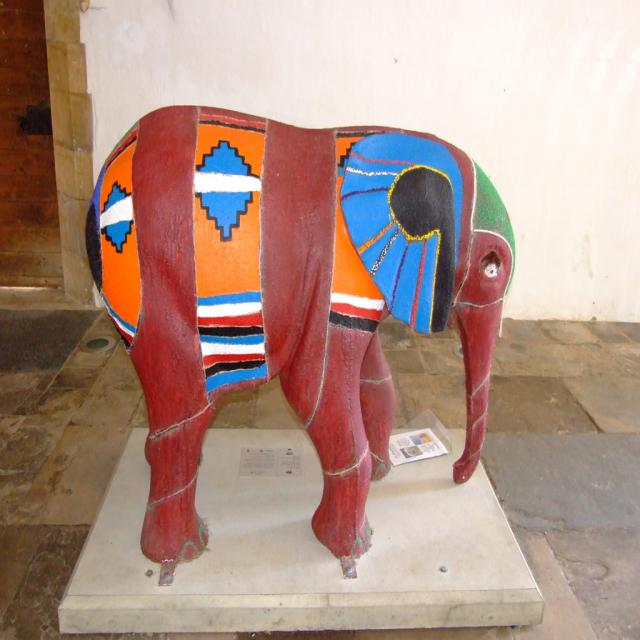Elephant: (84, 99, 516, 562)
